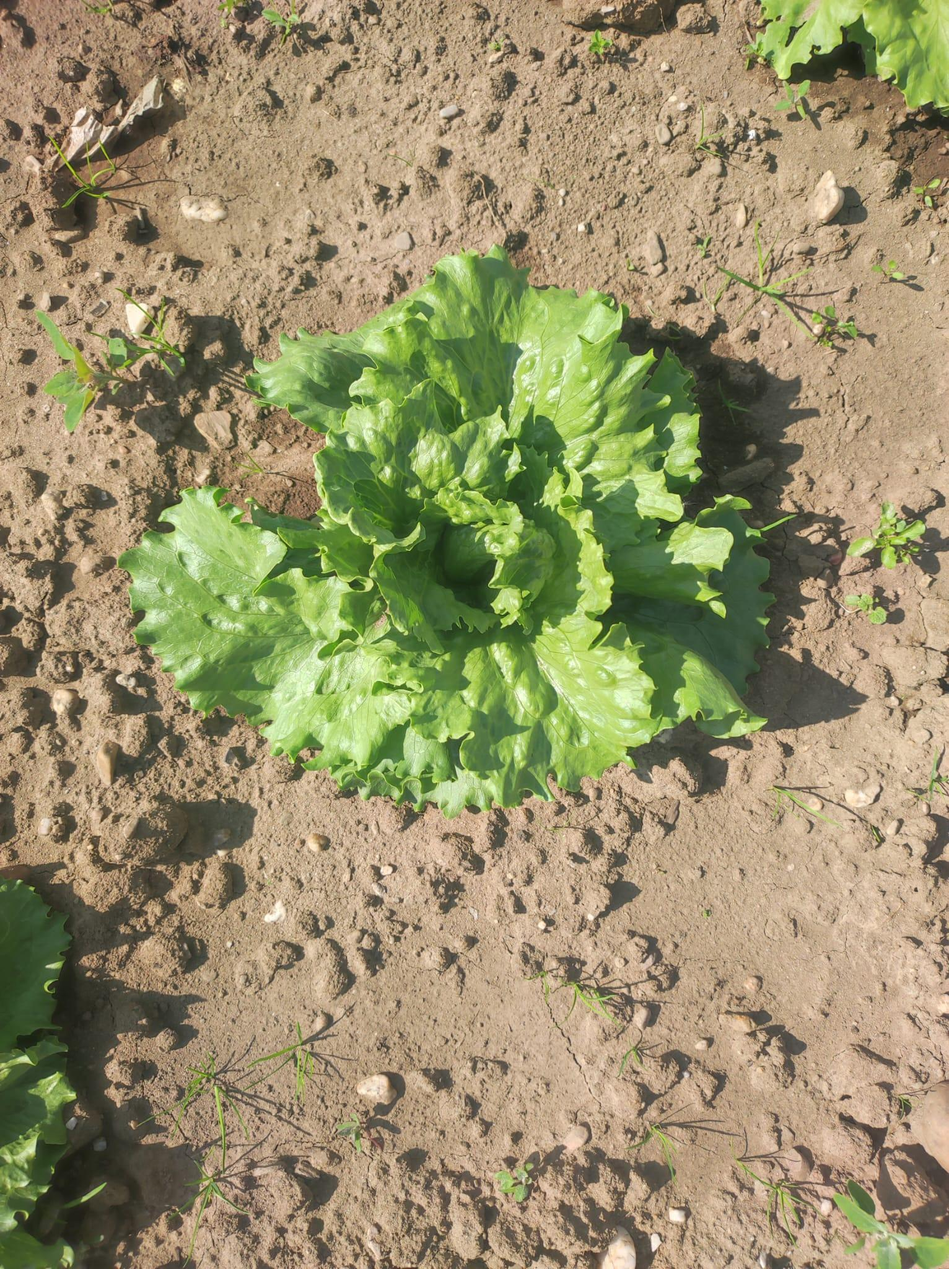Healthy: (118, 247, 772, 815), (0, 880, 74, 1269)
